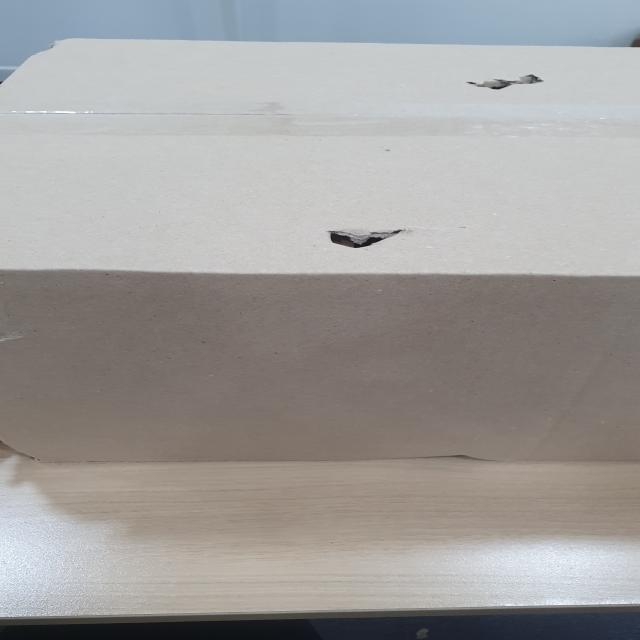hole: (306, 222, 425, 254), (453, 63, 551, 93)
